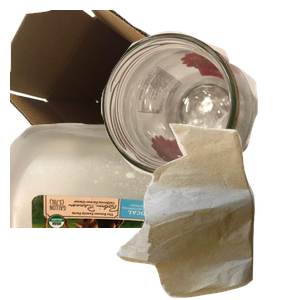cardboard: (10, 10, 218, 190)
glass: (98, 29, 300, 198)
plastic: (10, 120, 220, 300)
trash: (114, 121, 300, 300)
